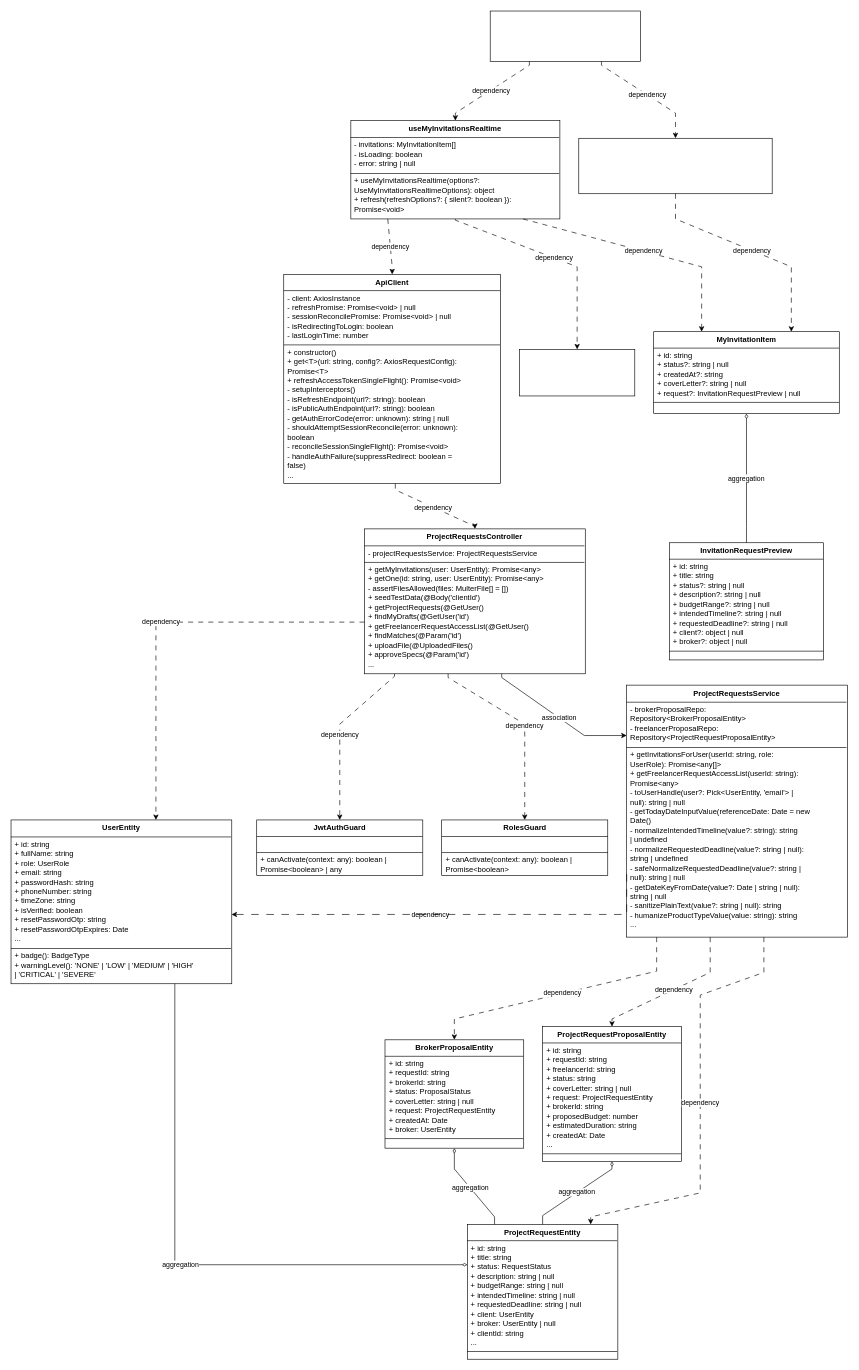
Image size: 859x1370. Some labels were removed from this diagram. Here are the shapes that lost their labels. From the top down, the centre of each, then its label:
(565,35): MyInvitationsPage - kycStatus: string | null + MyInvitationsPage(): JSX.Element
(675,166): InvitationCard + InvitationCard(props: InvitationCardProps): JSX.Element
(577,372): RealtimeSocket + connectSocket(): Socket
